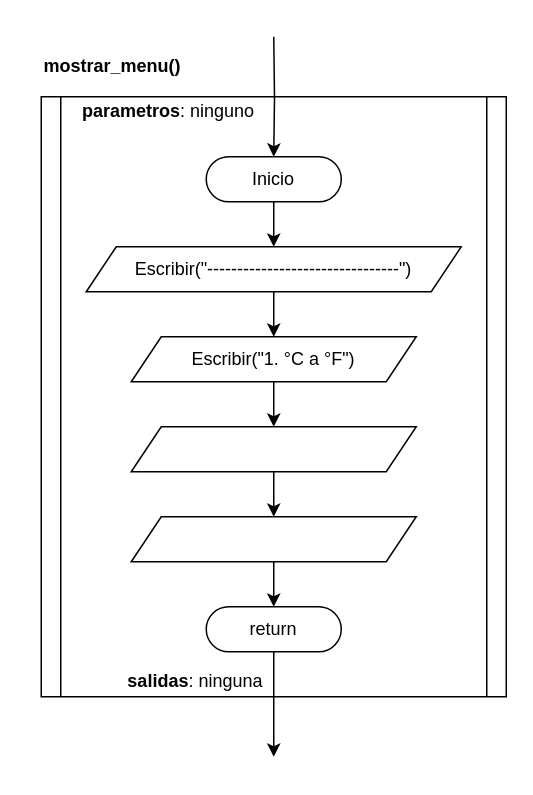
Some shapes in this 533 by 795 pixel diagram are drawn without their labels. The shapes that lost their labels are listed below. From the top down, each one's box as (x1, y1, x2, y2) in pixels, then its label:
(130, 425, 416, 472): Escribir("2. °C a K")
(130, 515, 416, 562): Escribir("3. Salir")
